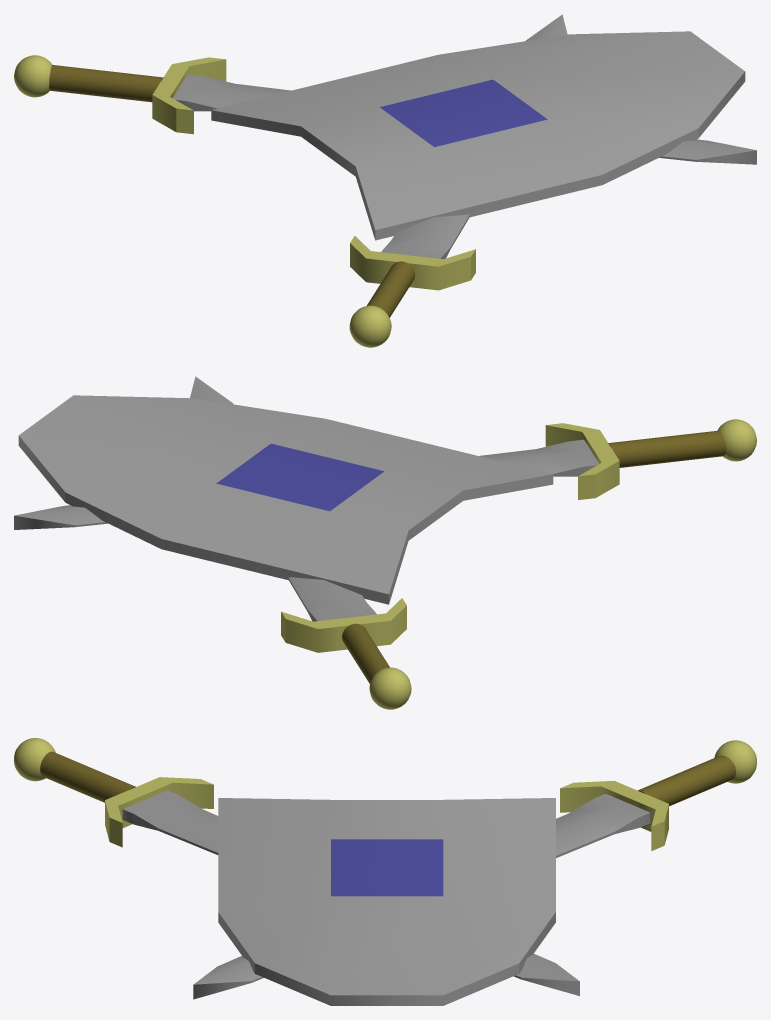
The model's file is sword shields.fbx.
The picture shows the model from 3 angles, top to bottom: view 1: azimuth 30°, elevation 25°; view 2: azimuth 150°, elevation 25°; view 3: azimuth 270°, elevation 25°; orthographic projection. The views are drawn at different scales.
Visible parts, largest first — view 1: pCube6; view 2: pCube6; view 3: pCube6.
Part boxes in pixels (bbox=[...]): pCube6: bbox=[14, 14, 756, 347]; pCube6: bbox=[14, 376, 756, 709]; pCube6: bbox=[14, 738, 756, 1005].
Bounding box in the file's own units: 9.44 × 0.719 × 11.01.
